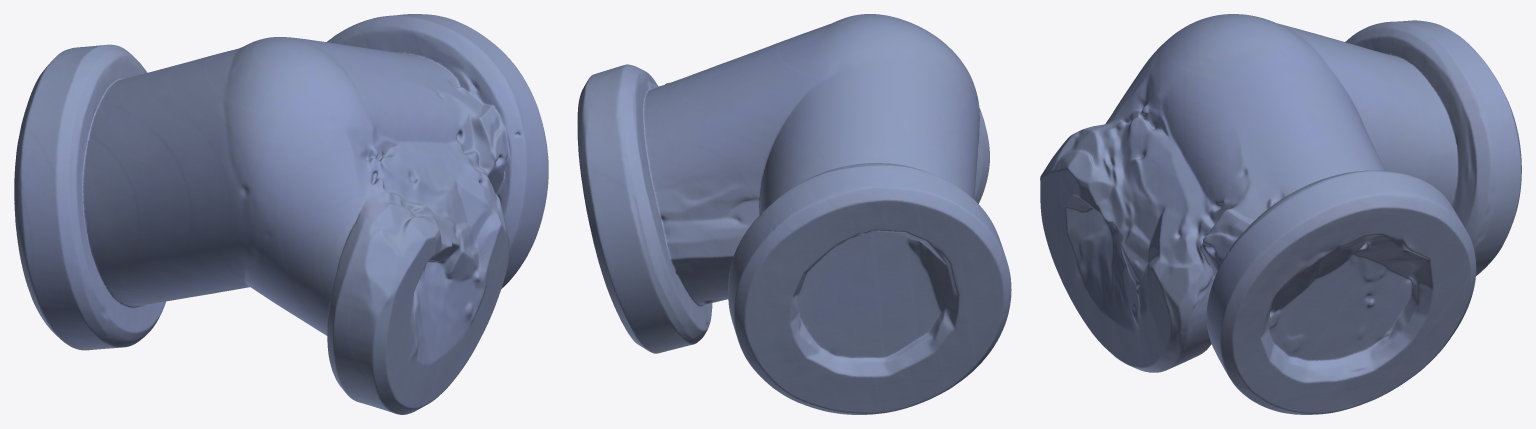
The model's file is PipeElbow.glb.
3 views of the same model, side by side, from view 1: azimuth 30°, elevation 25°; view 2: azimuth 150°, elevation 25°; view 3: azimuth 270°, elevation 25° (orthographic). The views are drawn at different scales.
Parts seen in each view (by area): view 1: tripo_node_dcf88e8c-06fe-4cba-81b2-bf63157119b9; view 2: tripo_node_dcf88e8c-06fe-4cba-81b2-bf63157119b9; view 3: tripo_node_dcf88e8c-06fe-4cba-81b2-bf63157119b9.
Part boxes in pixels (x1,y1,x2,y2): tripo_node_dcf88e8c-06fe-4cba-81b2-bf63157119b9: [14, 14, 548, 414]; tripo_node_dcf88e8c-06fe-4cba-81b2-bf63157119b9: [577, 14, 1011, 414]; tripo_node_dcf88e8c-06fe-4cba-81b2-bf63157119b9: [1040, 14, 1521, 414].
Bounding box in the file's own units: 1 × 0.6912 × 0.958.
Materials: 1 (1 with a texture image).
